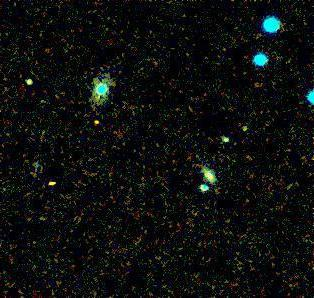star: (82, 110, 112, 140)
